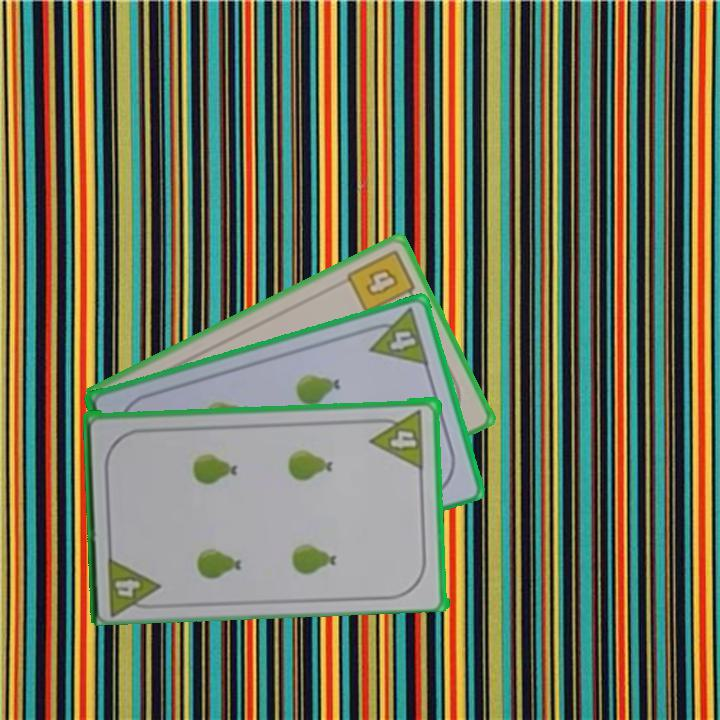4b: (343, 245, 420, 316)
4p: (360, 304, 432, 368), (104, 550, 165, 615), (368, 405, 428, 471)
